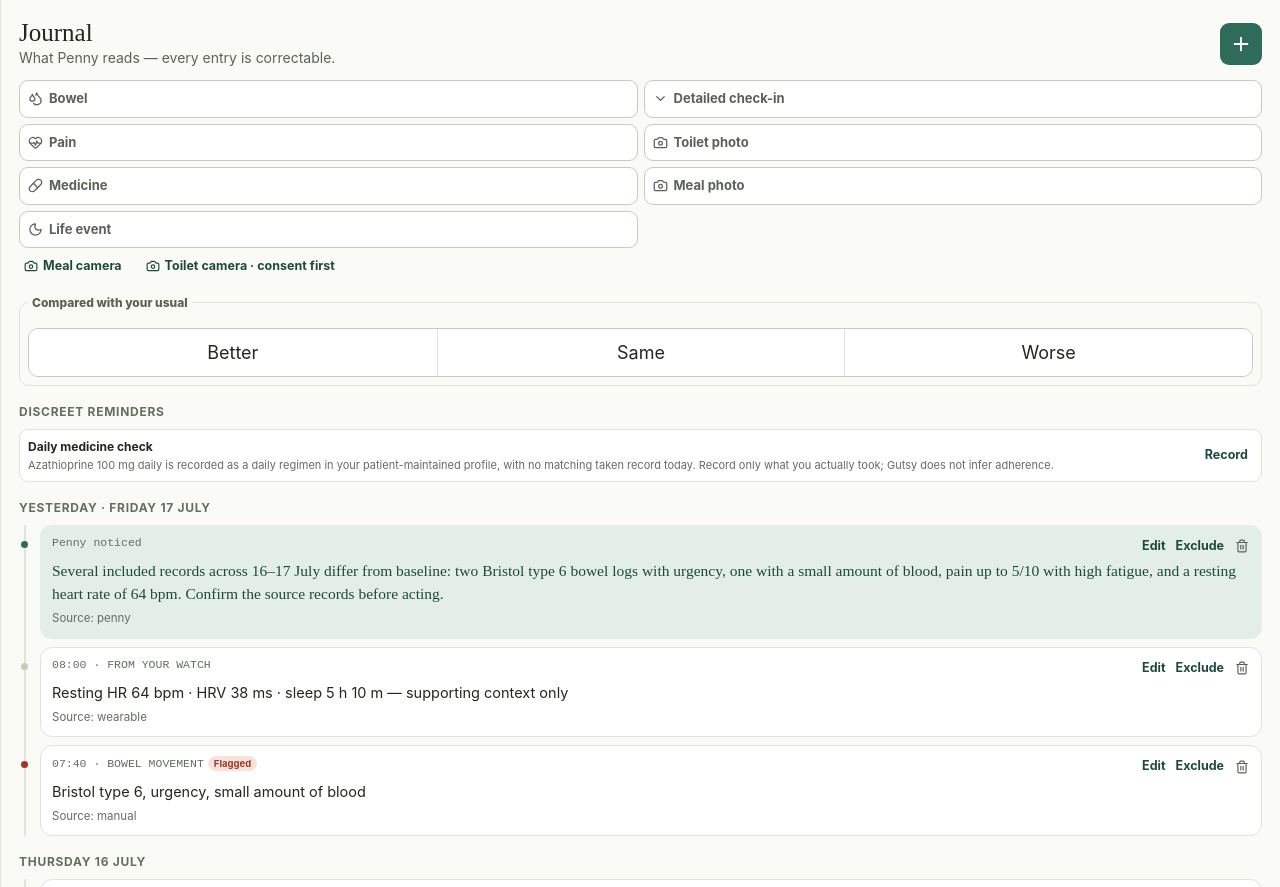
Test: keeps a journal draft open and locked until an explicit API save is acknowledged
Click the button "Meal photo" at (709, 185), box [644,167,1262,204]
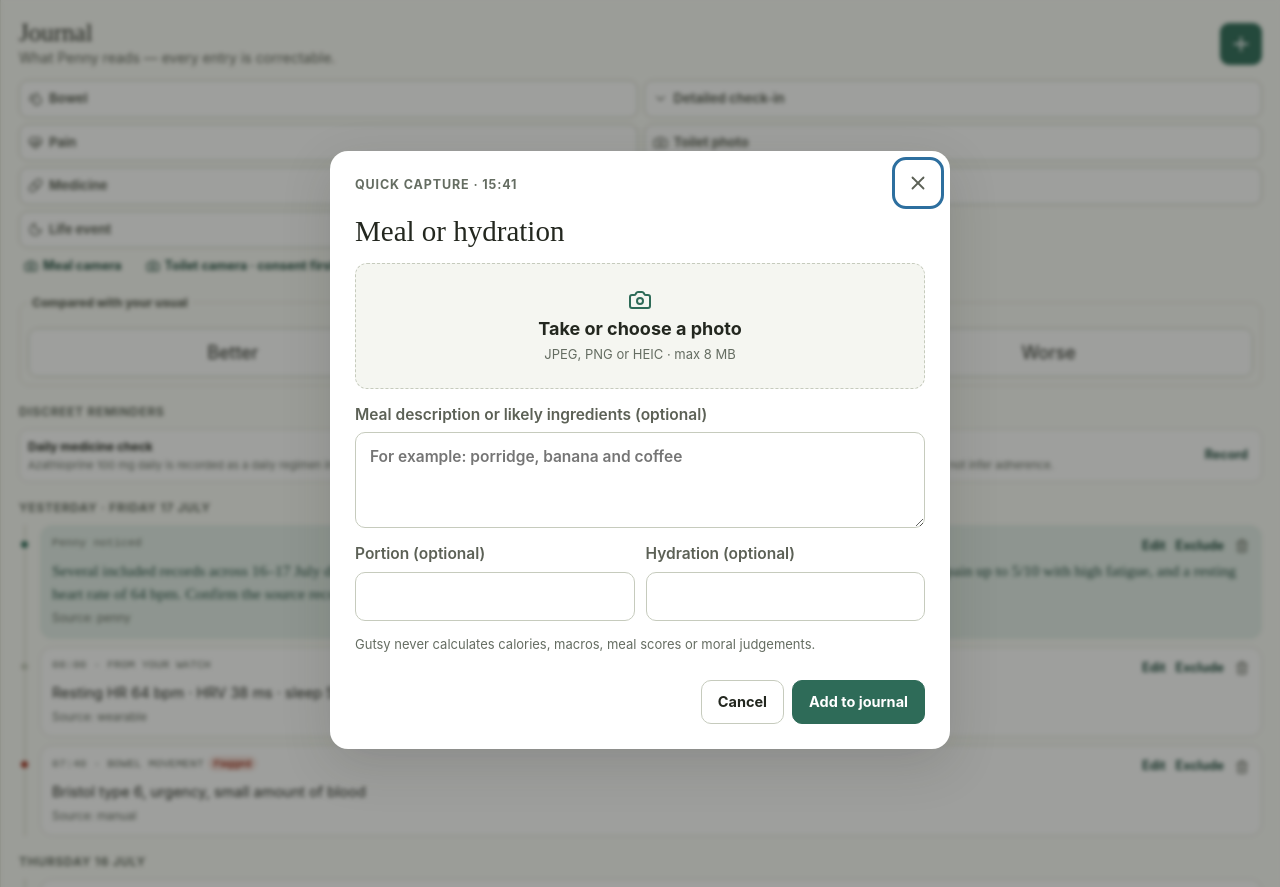
Type "Draft that must survive an outage" into the text box labelled "Meal description or likely ingredients (optional)" at (640, 480), box [355,432,925,528]
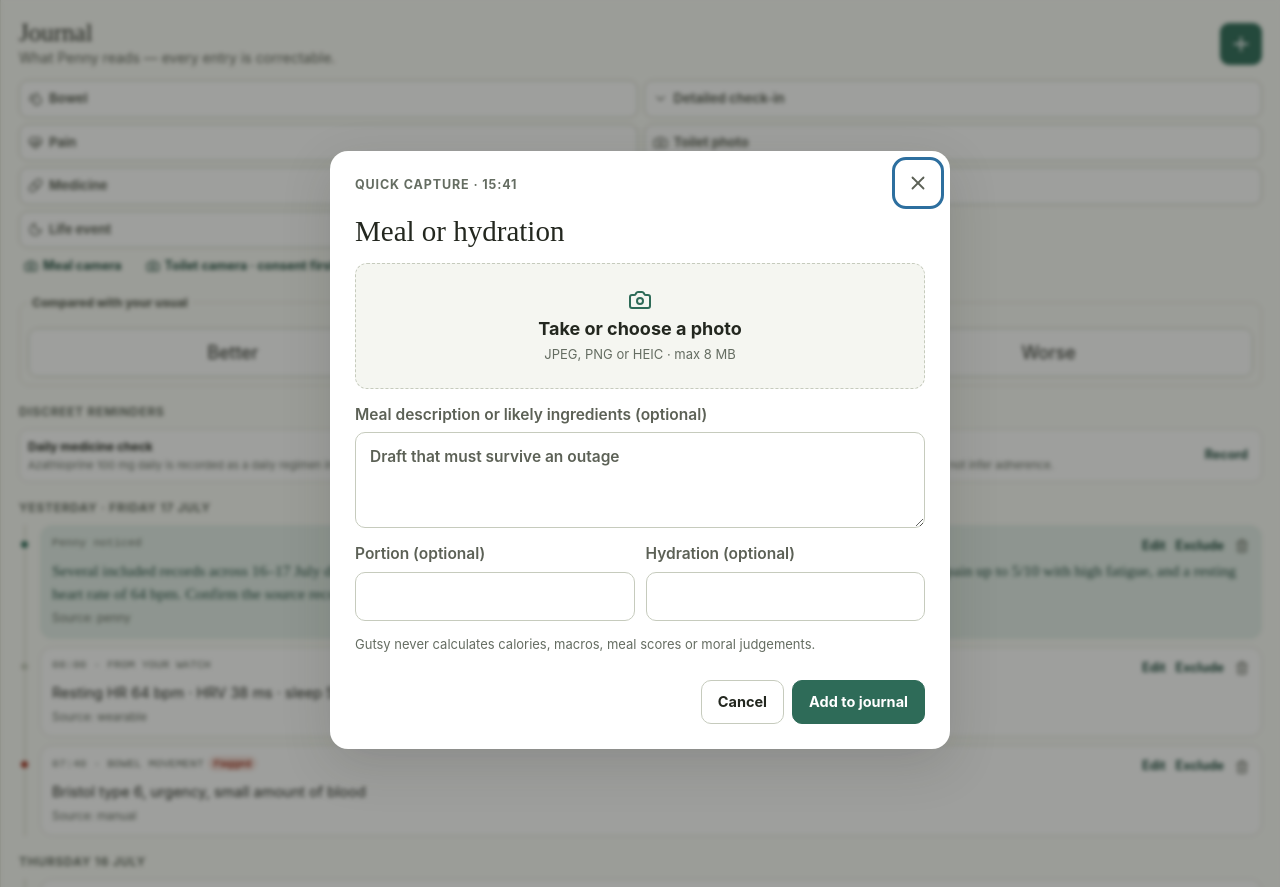
Click the button "Add to journal" at (859, 702), box [792,680,925,724]
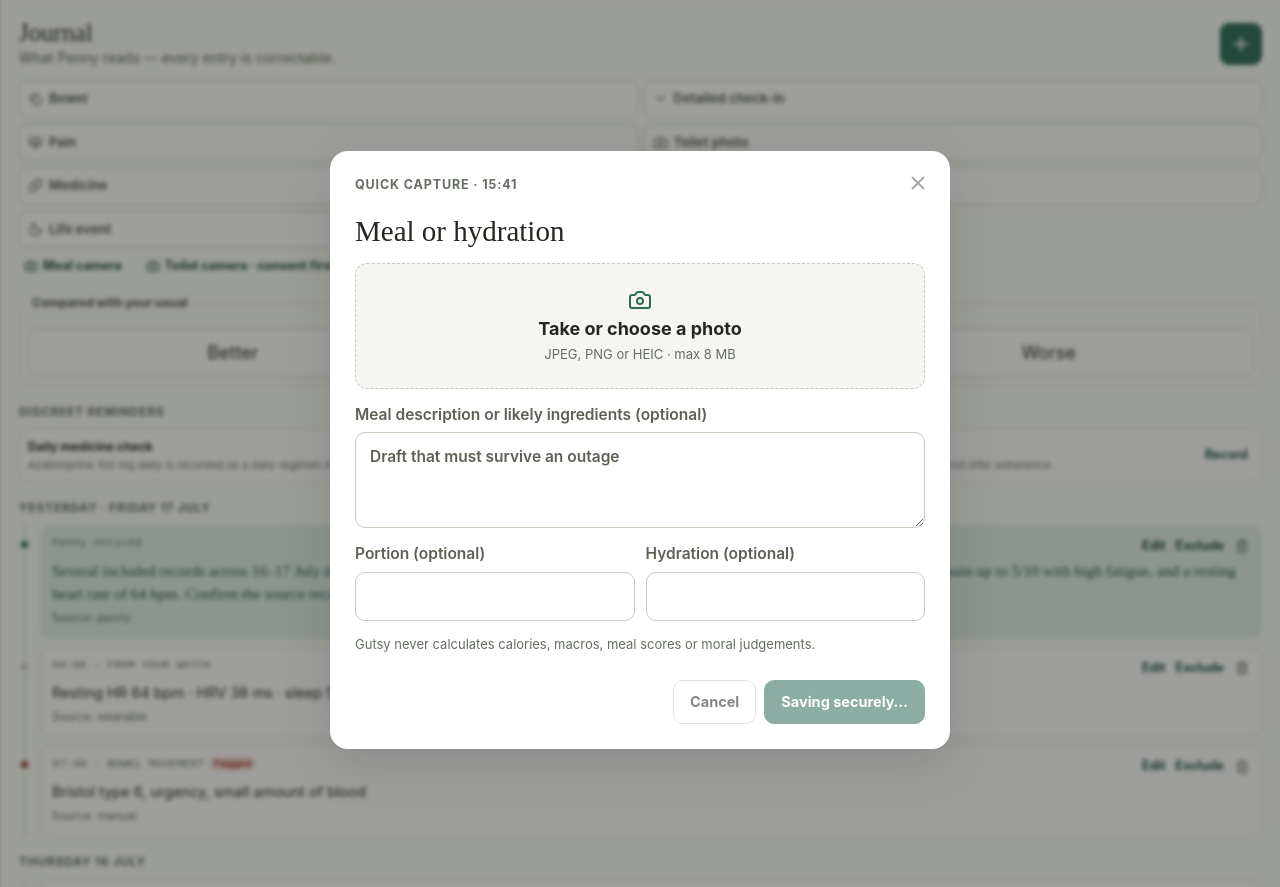
Now the button "Saving securely…" is disabled, box [764,680,925,724]
Now the button named "Close capture" is disabled, box [897,162,939,204]
Now the button "Cancel" is disabled, box [673,680,756,724]
Press Escape
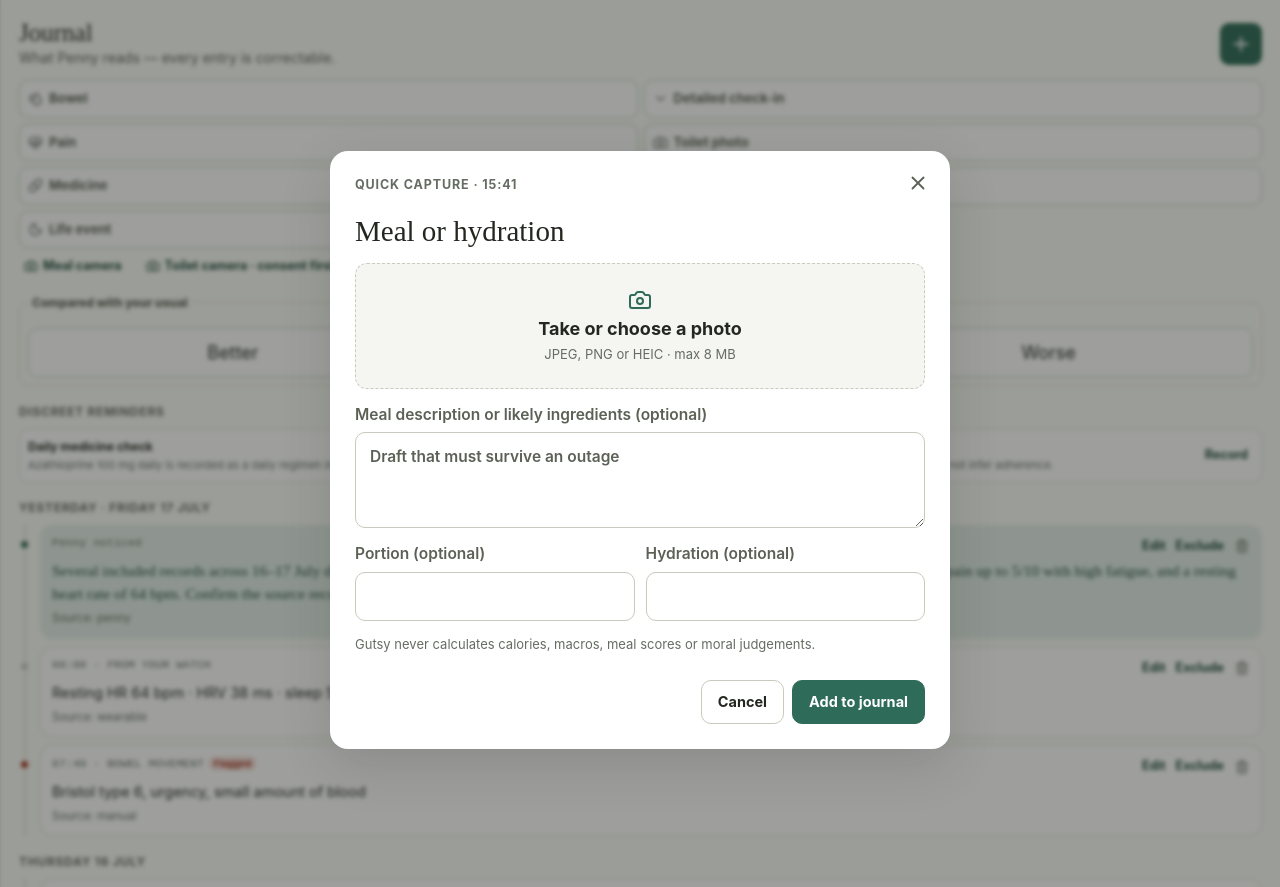
Now the button "Add to journal" is enabled, box [792,680,925,724]
Now the button named "Close capture" is enabled, box [897,162,939,204]
